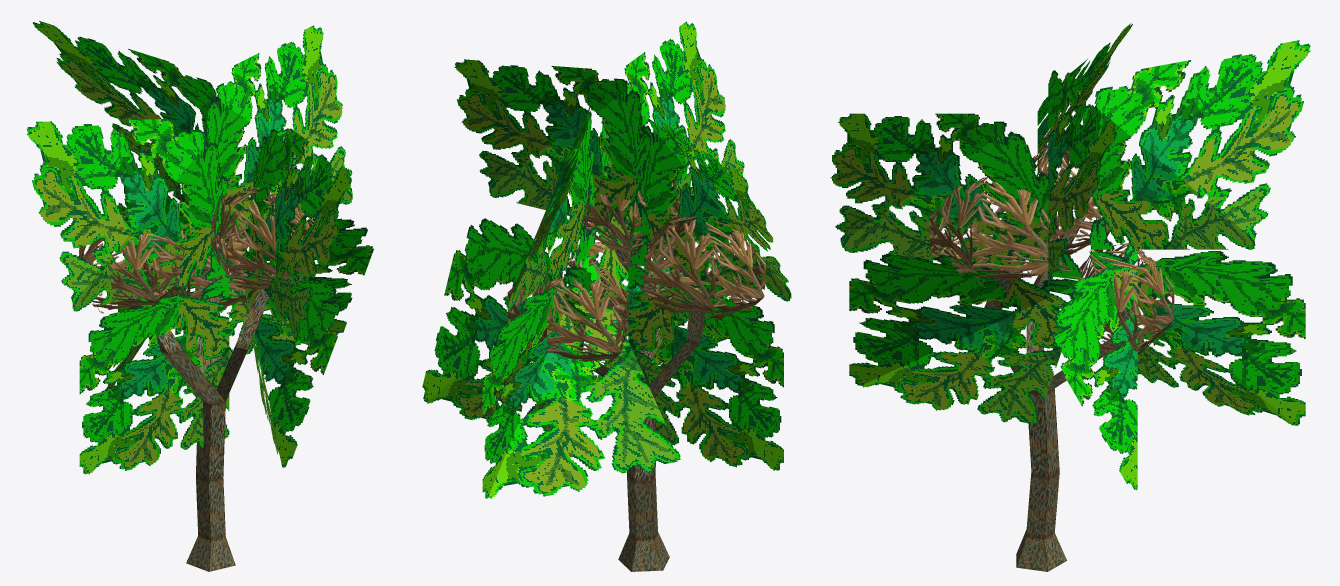
The model's file is treeSmallOak2.gltf.
3 renders of one model, left to right at view 1: azimuth 30°, elevation 25°; view 2: azimuth 150°, elevation 25°; view 3: azimuth 270°, elevation 25°, orthographic. The views are drawn at different scales.
Parts seen in each view (by area): view 1: treeSmallOak2; view 2: treeSmallOak2; view 3: treeSmallOak2.
Boxes of the visible parts, <box> form: treeSmallOak2: <box>27,21,373,571</box>; treeSmallOak2: <box>422,21,791,571</box>; treeSmallOak2: <box>830,23,1310,571</box>.
Bounding box in the file's own units: 39.81 × 56.21 × 49.82.
3 materials, 3 textured.
